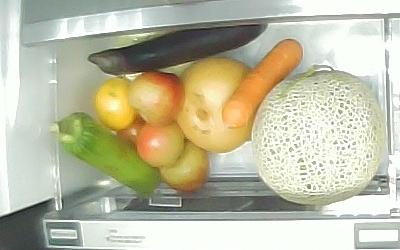carrot: (222, 38, 304, 128)
eggplant: (86, 22, 269, 76)
melon: (252, 64, 388, 207)
pear: (175, 57, 263, 153)
prune: (128, 71, 184, 126), (159, 139, 210, 193), (134, 120, 185, 170)
tangerine: (94, 76, 136, 130)
tomato: (117, 115, 146, 147)
zucchini: (53, 113, 162, 195)
